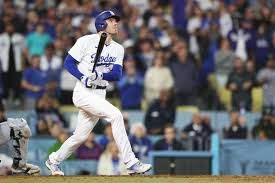baseball bat: (89, 31, 109, 73)
